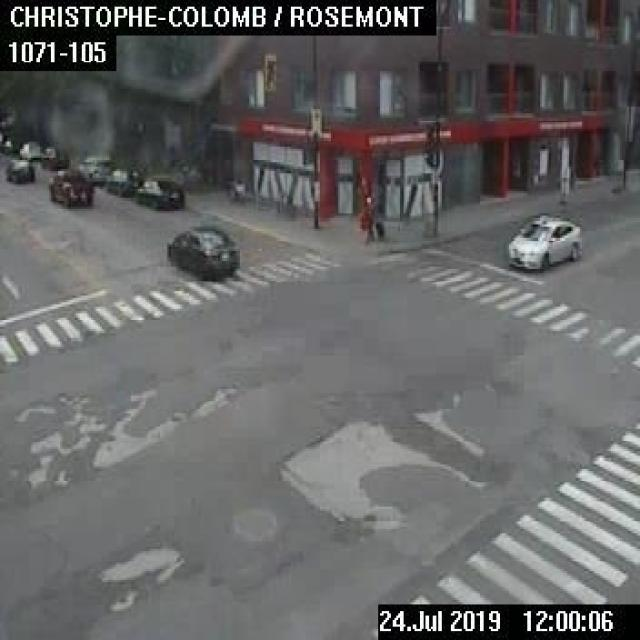pedestrian: (359, 195, 383, 243)
vehicle: (507, 213, 580, 269), (165, 224, 240, 276), (47, 168, 92, 205), (135, 176, 182, 207), (103, 167, 141, 195), (78, 155, 112, 184), (4, 158, 34, 182), (39, 146, 68, 169), (18, 142, 41, 160), (0, 136, 18, 154)
